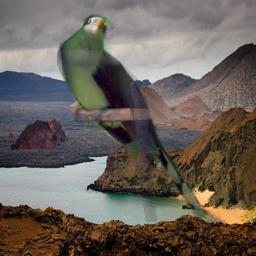Cuckoo: (57, 14, 218, 222)
